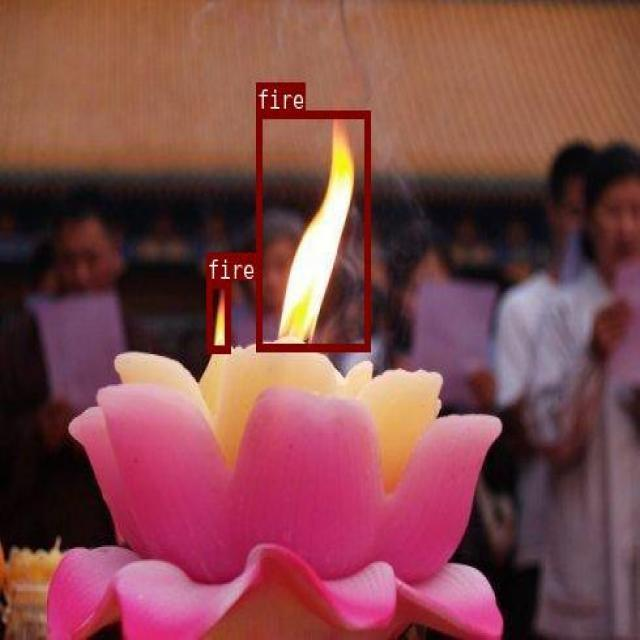fire: (256, 109, 370, 350), (206, 279, 229, 352)
